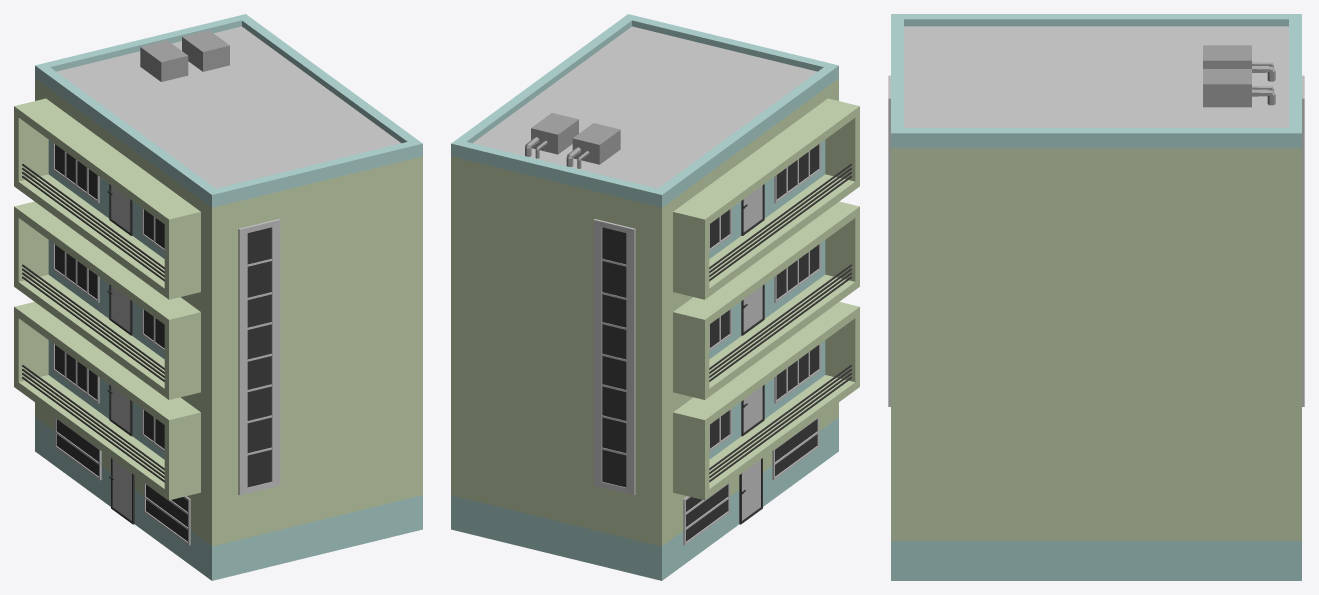
File: Buliding_YB.fbx
The picture shows the model from 3 angles, left to right: view 1: azimuth 30°, elevation 25°; view 2: azimuth 150°, elevation 25°; view 3: azimuth 270°, elevation 25°; orthographic projection. The views are drawn at different scales.
Parts seen in each view (by area): view 1: polySurface9; view 2: polySurface9; view 3: polySurface9.
Part boxes in pixels (x1,y1,x2,y2): polySurface9: (14,14,422,580); polySurface9: (451,14,859,580); polySurface9: (888,14,1304,580).
Bounding box in the file's own units: 37.99 × 59.79 × 48.69.
Materials: 2 (1 with a texture image).
